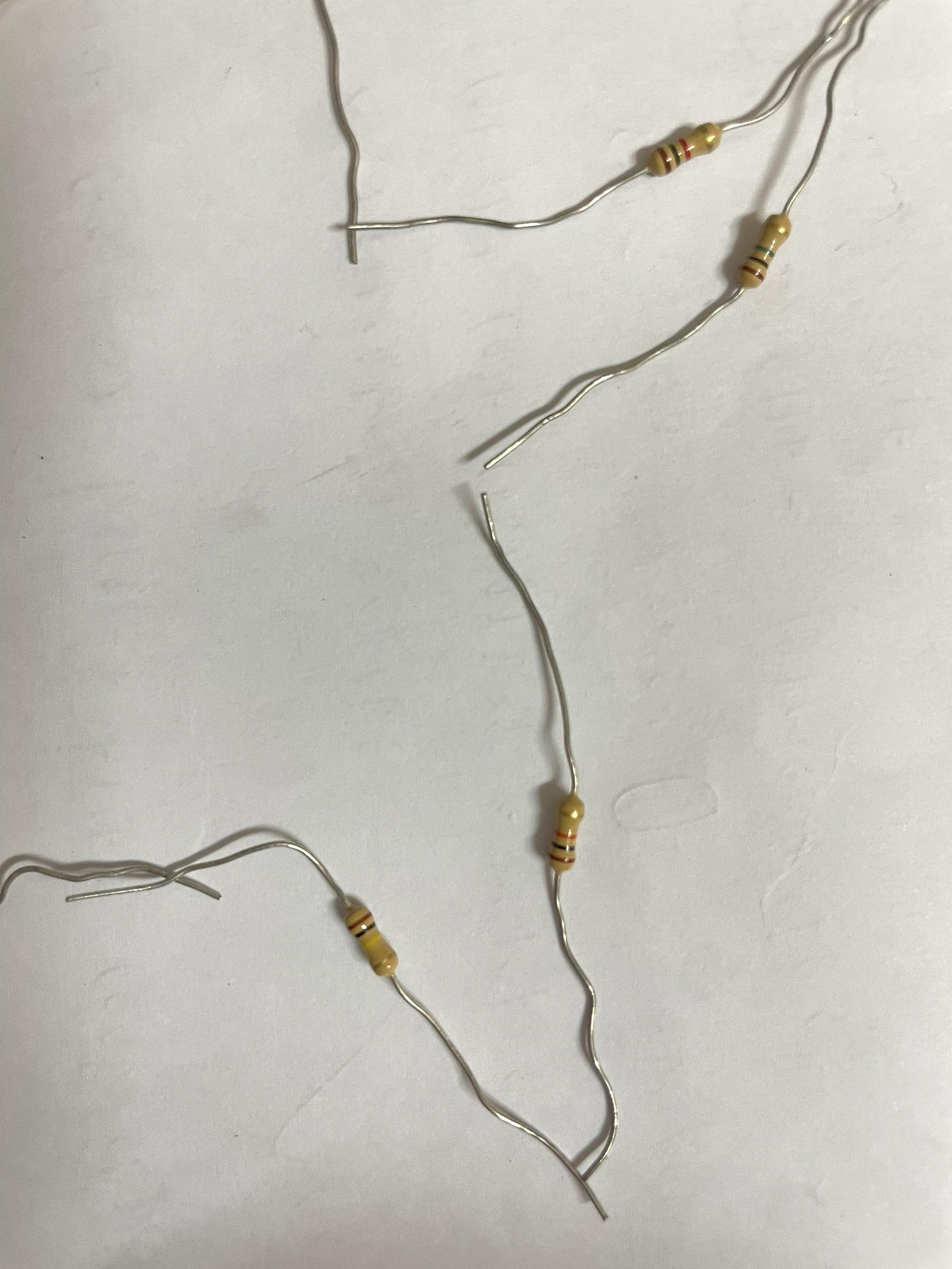resistor: (526, 778, 589, 873), (331, 889, 401, 972), (640, 111, 726, 172), (724, 211, 791, 285)
